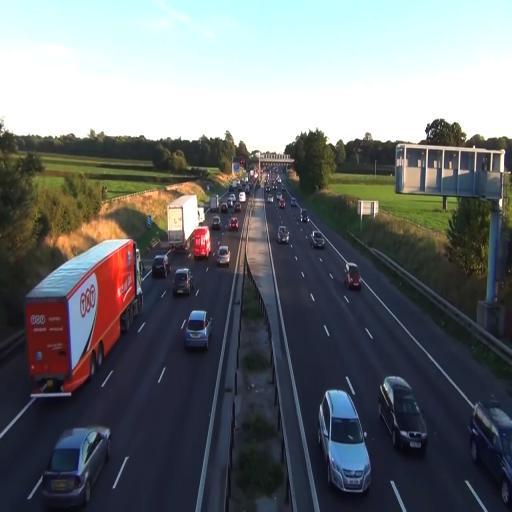vehicle: (24, 236, 144, 400), (38, 425, 112, 509), (318, 388, 372, 494), (469, 400, 512, 508), (378, 376, 429, 455), (167, 194, 199, 253), (167, 193, 199, 251), (182, 309, 212, 352), (190, 224, 211, 260), (173, 267, 194, 298), (152, 254, 169, 279), (345, 264, 361, 290), (217, 244, 230, 267), (311, 230, 325, 249), (278, 224, 289, 244), (228, 214, 239, 234)
